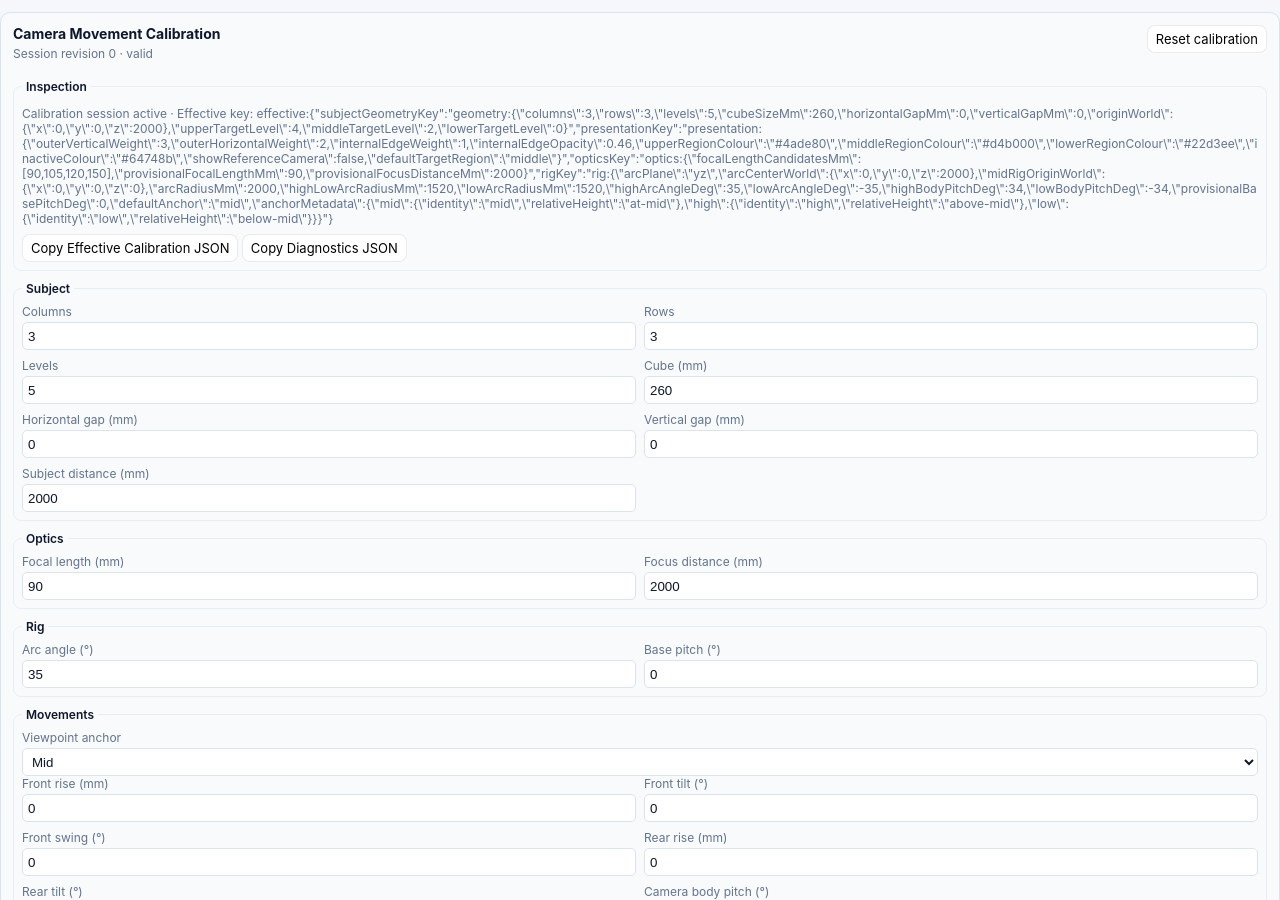
Test: camera calibration workbench › preserves rejected drafts, restores on Escape, and resynchronises on reset
// 50 mm is below the selected 90 mm focal length and must fail thin-lens validation.
Step 1. Replace the text in the field labelled "Focus distance (mm)" with "50" → (951, 586), box [644,572,1258,600]
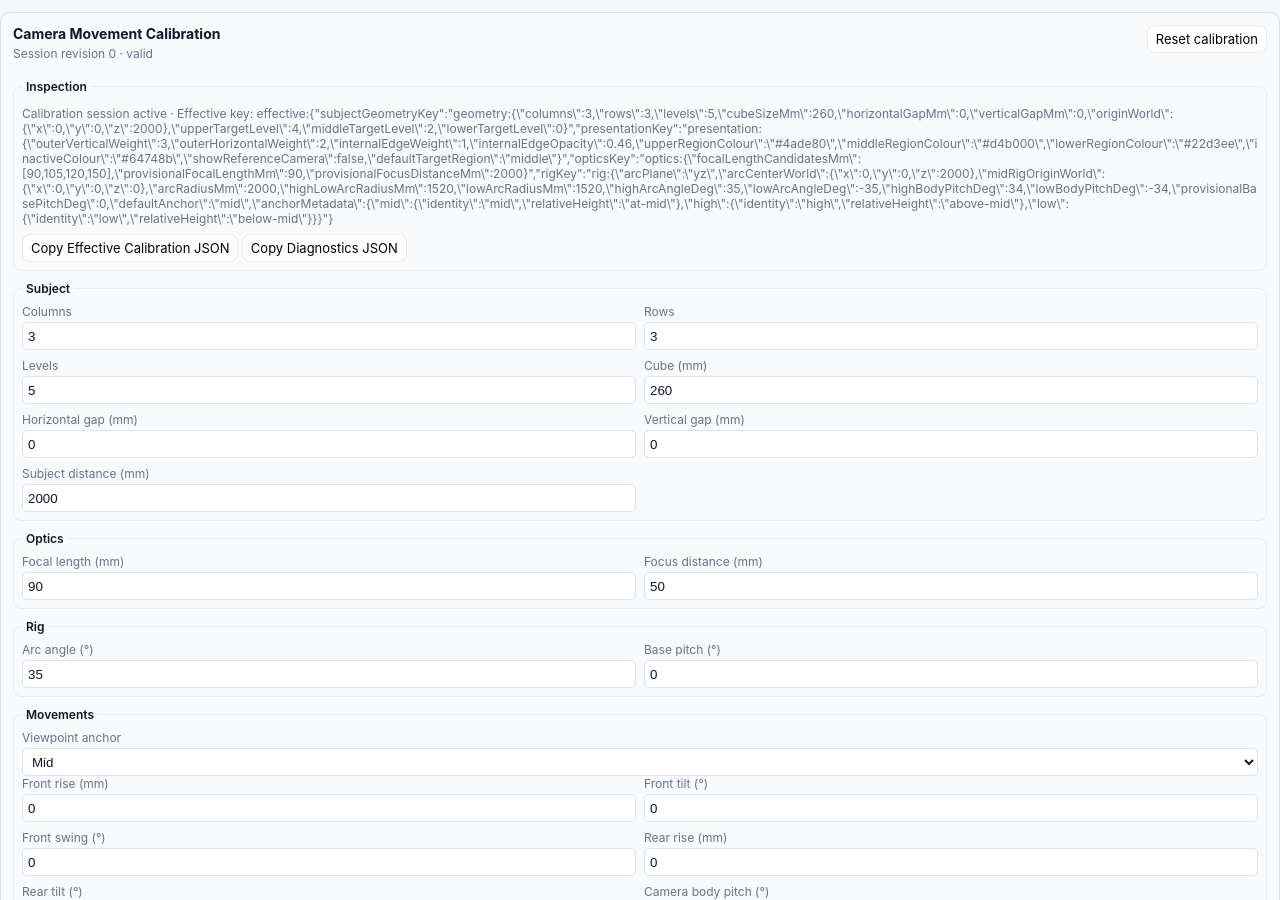
Step 2. Press Enter in the field labelled "Focus distance (mm)", box [644,572,1258,600]
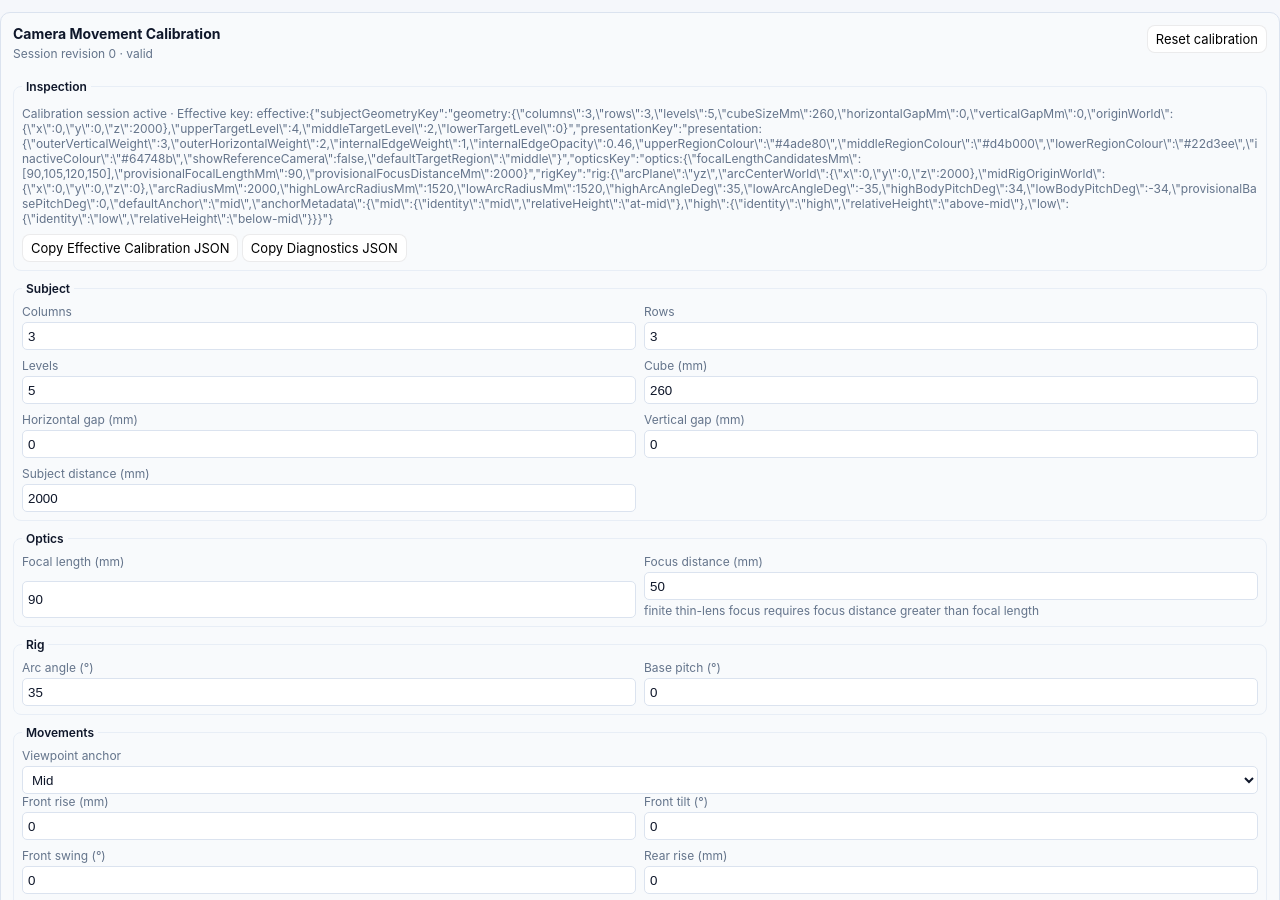
Step 3. Press Escape in the field labelled "Focus distance (mm)", box [644,572,1258,600]
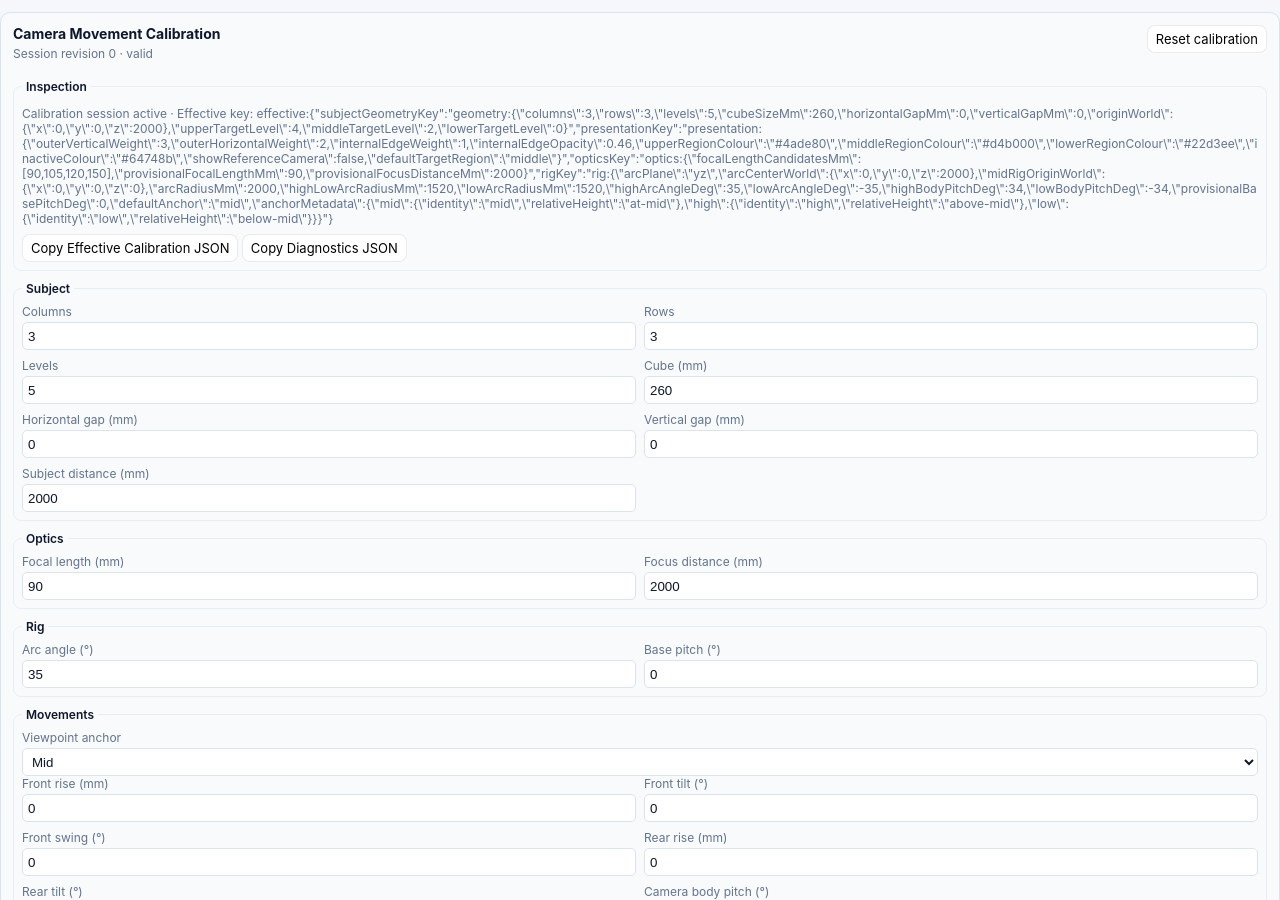
Check: the field labelled "Focus distance (mm)" holds "2000"
Step 4. Replace the text in the field labelled "Focus distance (mm)" with "3000" → (951, 586), box [644,572,1258,600]
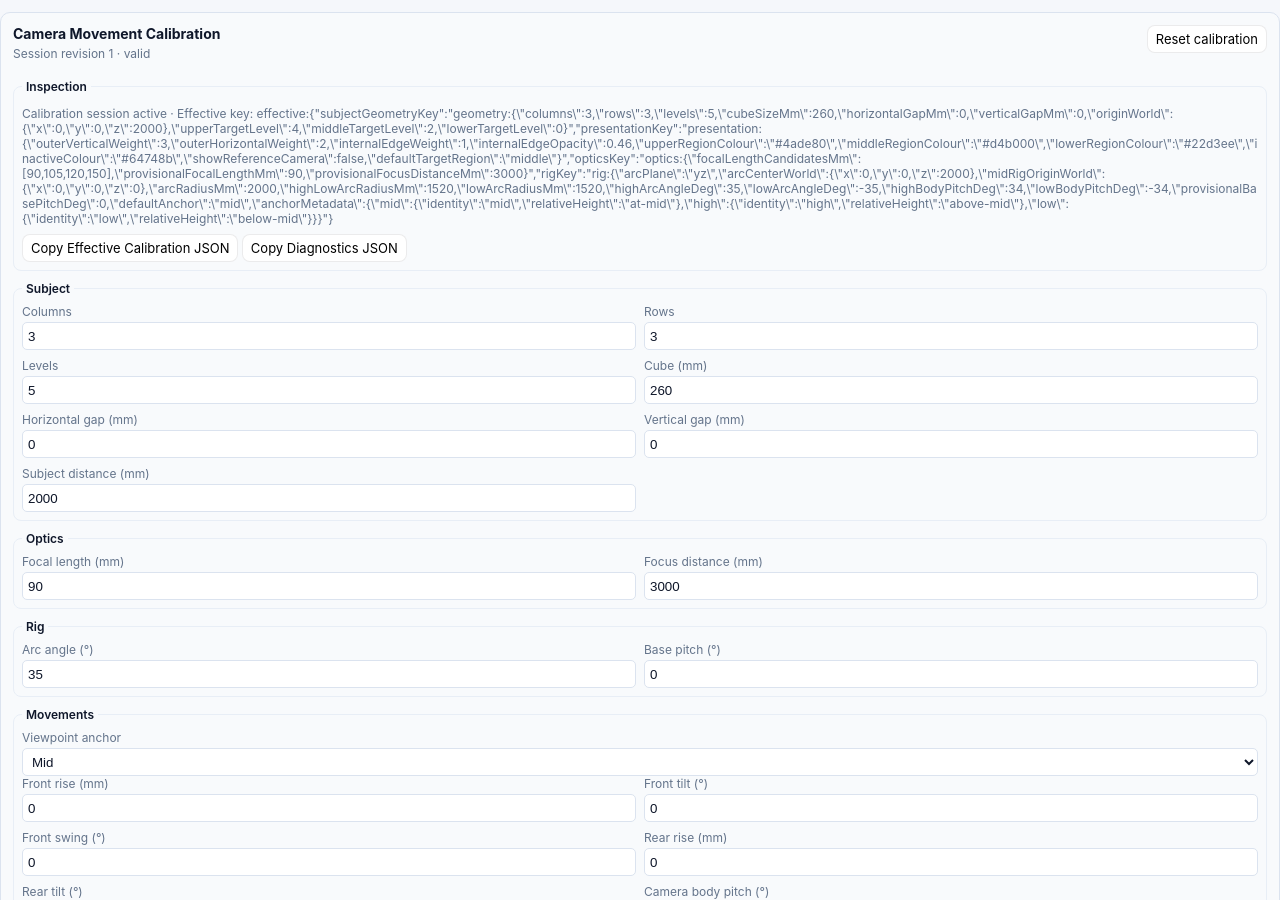
Step 5. Replace the text in the field labelled "Focus distance (mm)" with "-" → (951, 586), box [644,572,1258,600]
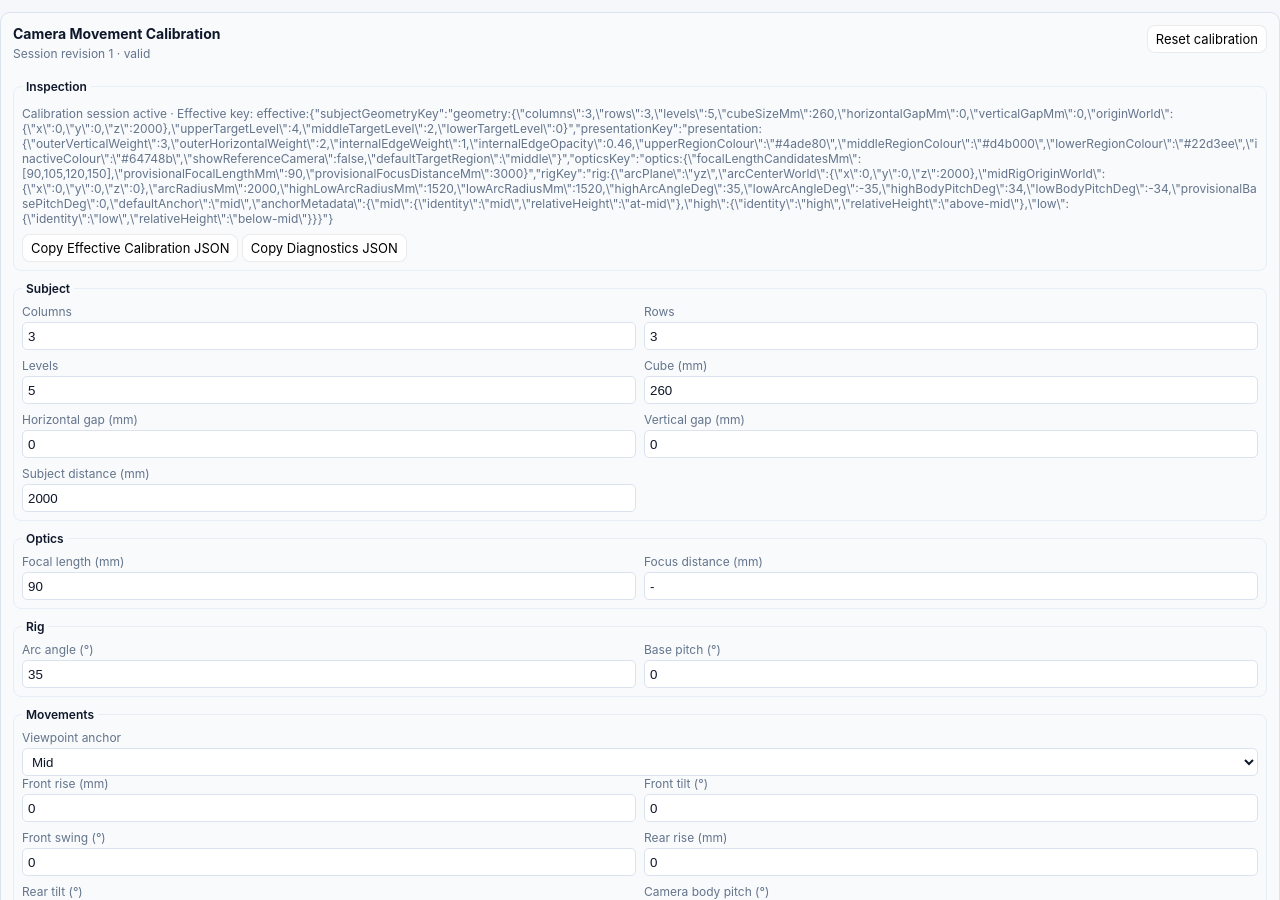
Step 6. Click the button "Reset calibration" → (1207, 39), box [1147,25,1267,53]
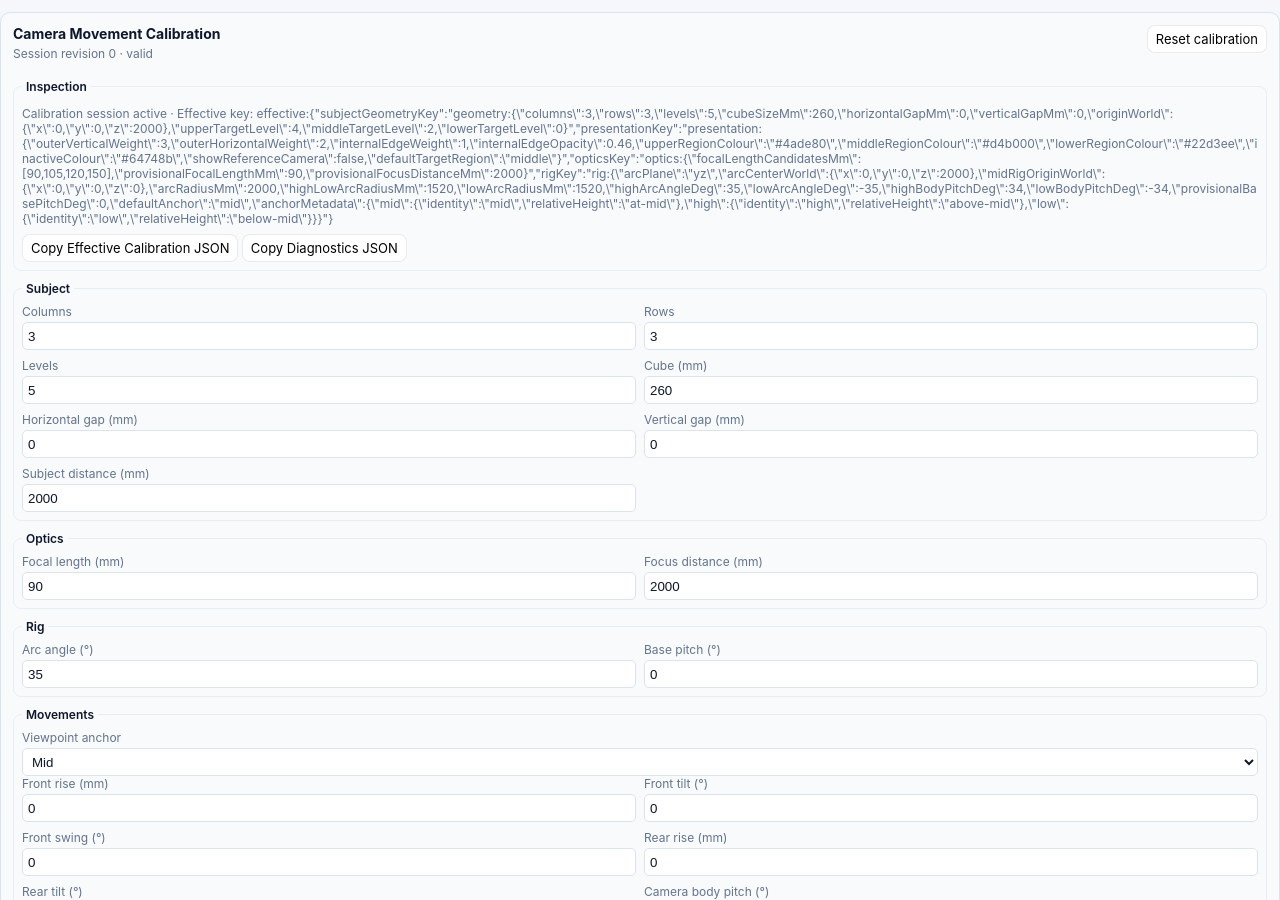
Check: the field labelled "Focus distance (mm)" holds "2000", box [644,572,1258,600]
